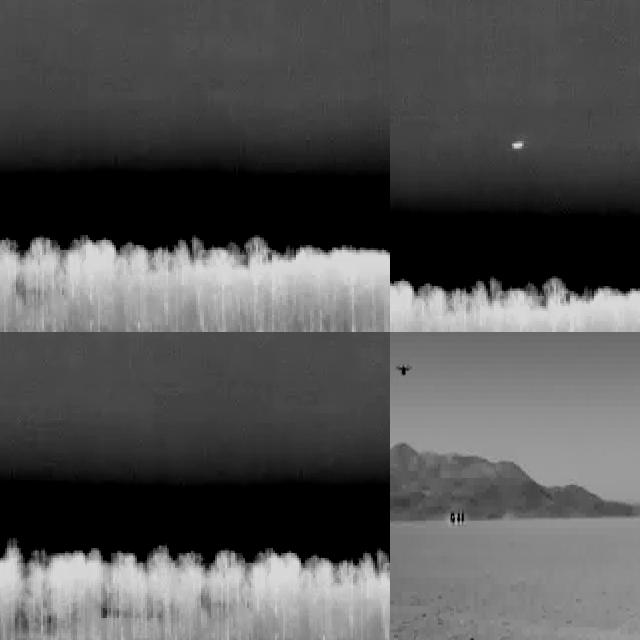1: (500, 136, 530, 156)
drone: (395, 356, 412, 388)
